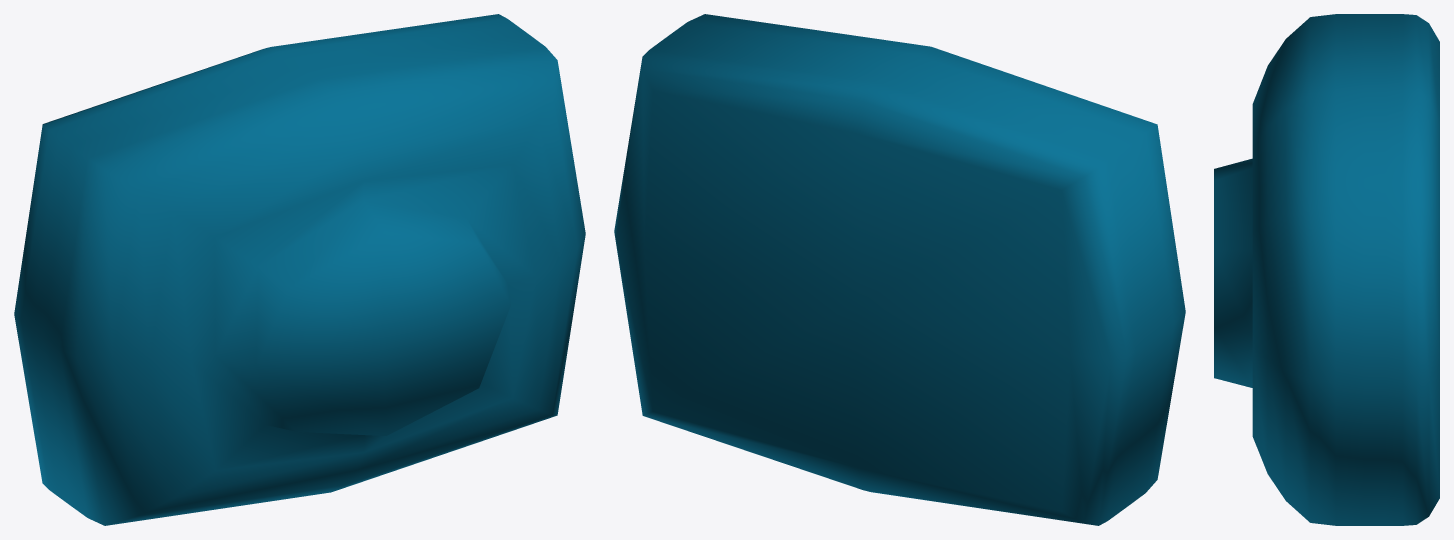
Rendered from HeadLighter.fbx.
3 renders of one model, left to right at view 1: azimuth 30°, elevation 25°; view 2: azimuth 150°, elevation 25°; view 3: azimuth 270°, elevation 25°, orthographic. The views are drawn at different scales.
Parts seen in each view (by area): view 1: Plane; view 2: Plane; view 3: Plane.
Part boxes in pixels (bbox=[...]): Plane: bbox=[14, 14, 585, 525]; Plane: bbox=[614, 14, 1185, 525]; Plane: bbox=[1214, 14, 1439, 525].
Bounding box in the file's own units: 214 × 161 × 92.64.
